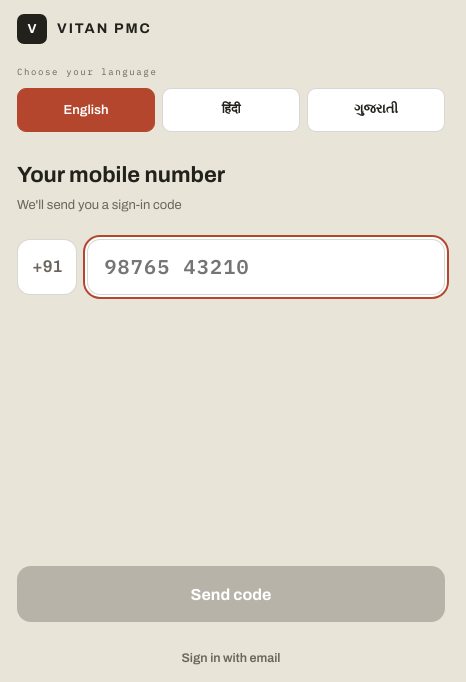
Test: #827 one-screen sign-in › a send failure shown before a language switch is re-worded in the new language (#886)
Type "9876543210" into the field with test id "phone-input" at (266, 267), box [87,239,445,295]
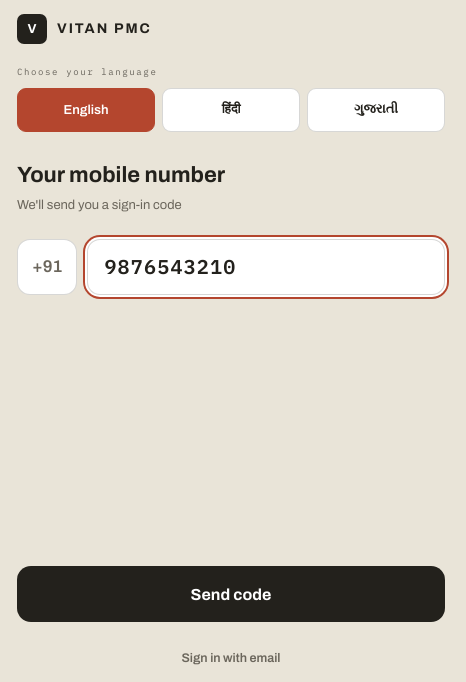
Click the button with test id "send-code" at (231, 594), box [17,566,445,622]
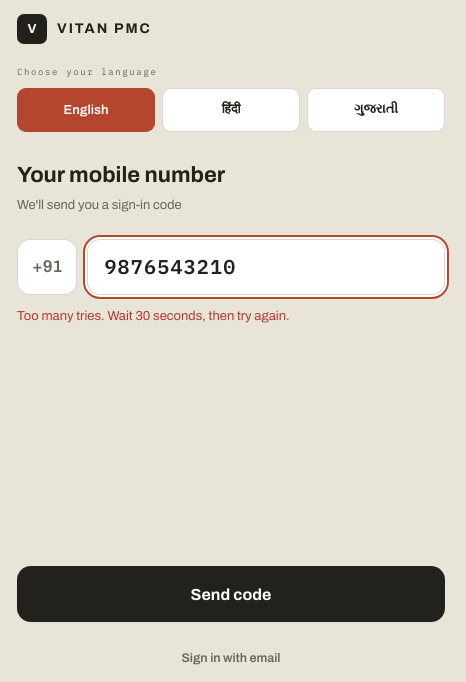
Expected: the text "Too many tries. Wait 30 seconds, then try again." is shown, [17,309,290,323]
Click the button with test id "gate-lang-gu" at (376, 110), box [307,88,445,132]
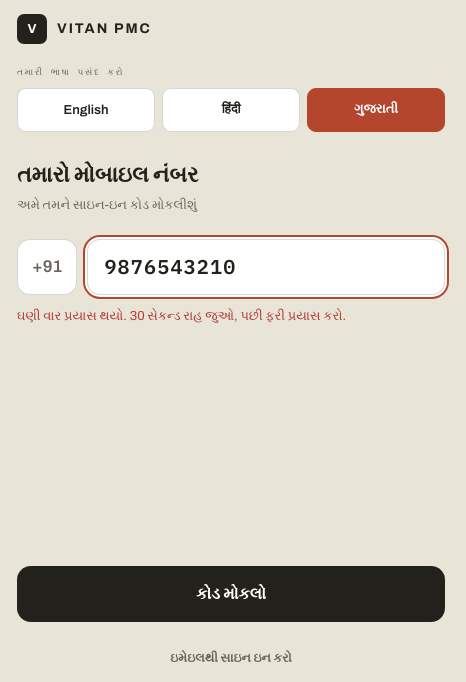
Expected: the text "ઘણી વાર પ્રયાસ થયો. 30 સેકન્ડ રાહ જુઓ, પછી ફરી પ્રયાસ કરો." is shown, [17,309,346,323]
Click the button with test id "gate-lang-hi" at (231, 110), box [162,88,300,132]
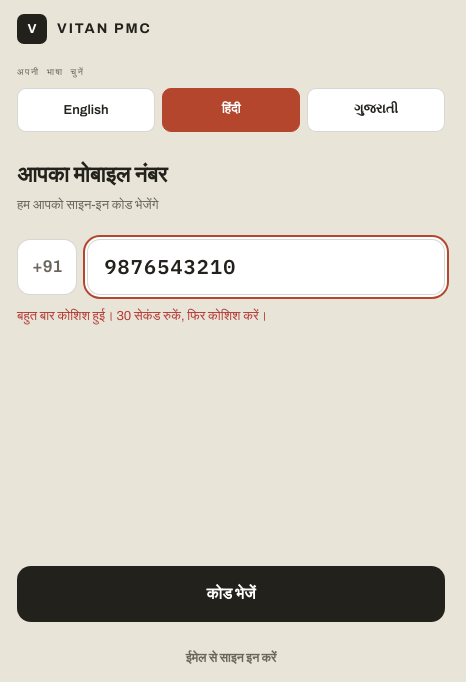
Expected: the text "Too many tries. Wait 30 seconds, then try again." is not shown
Expected: the text "बहुत बार कोशिश हुई। 30 सेकंड रुकें, फिर कोशिश करें।" is shown, [17,309,267,323]
